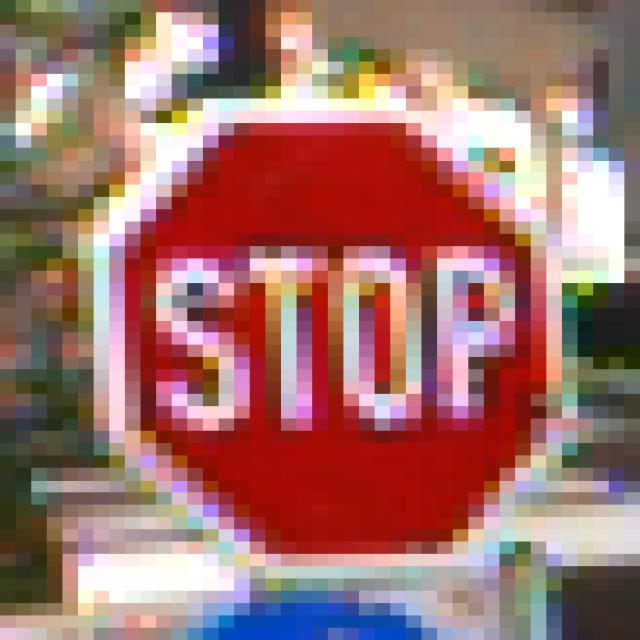STOP: (95, 75, 563, 579)
